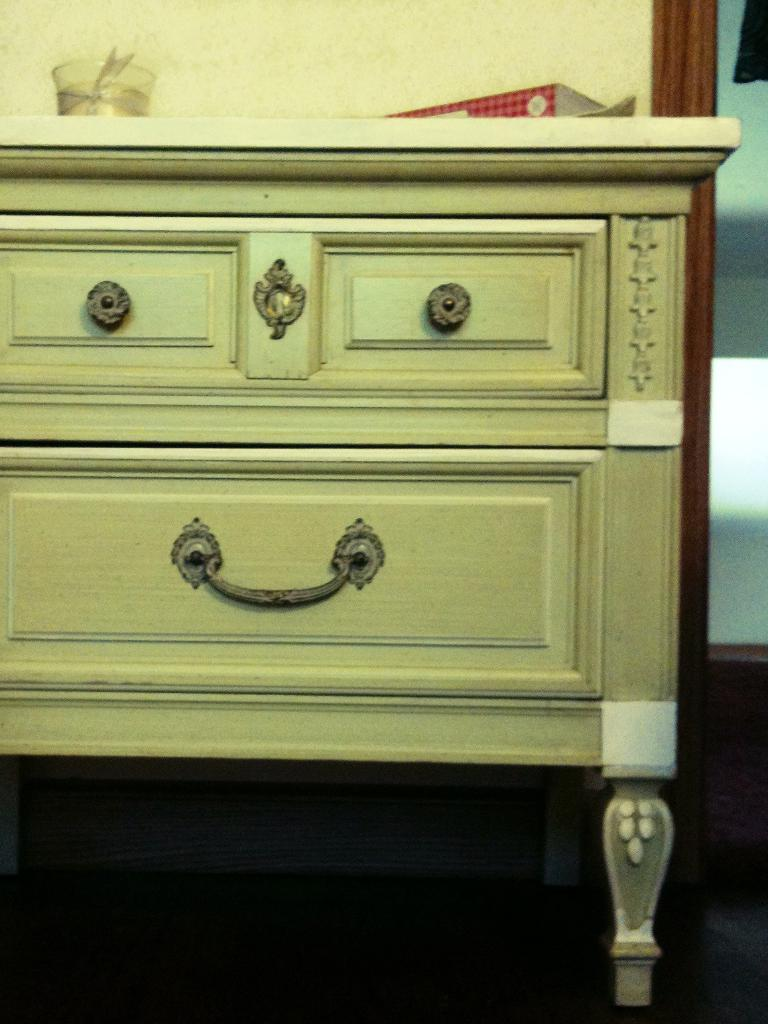cabinet door: (0, 461, 577, 678), (321, 259, 586, 374), (5, 245, 234, 367)
handle: (190, 518, 364, 623), (419, 270, 469, 344), (81, 280, 134, 346)
